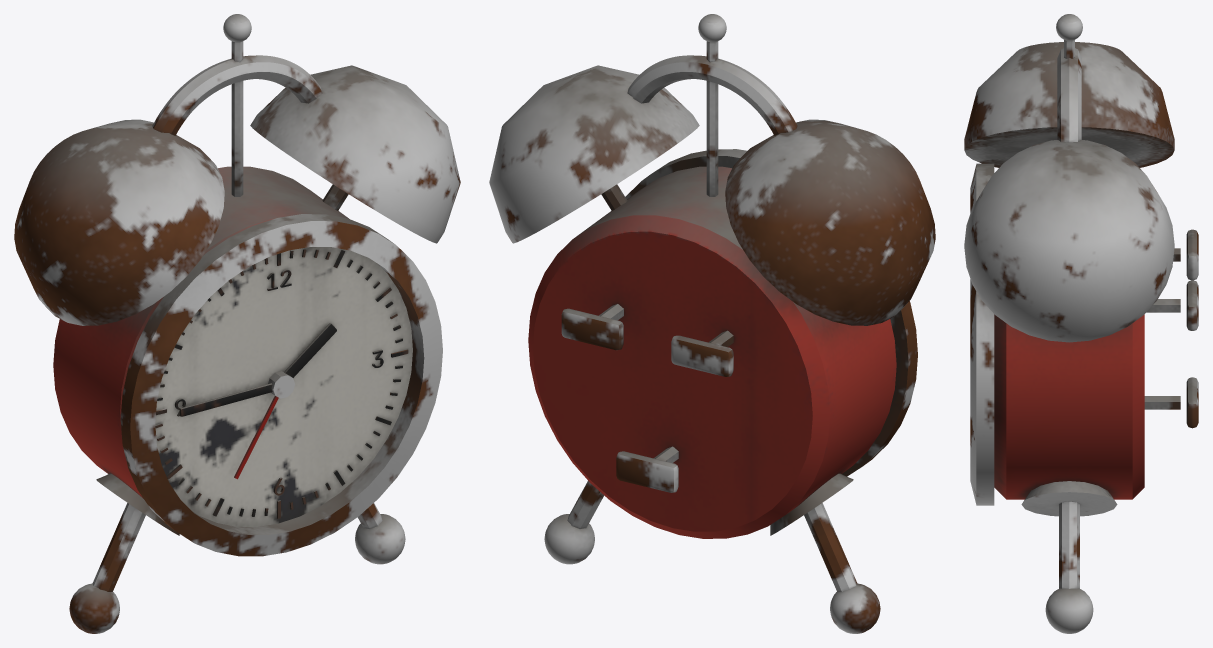
File: SM_AlarmClock_TwinBell.fbx
The picture shows the model from 3 angles, left to right: view 1: azimuth 30°, elevation 25°; view 2: azimuth 150°, elevation 25°; view 3: azimuth 270°, elevation 25°; orthographic projection. The views are drawn at different scales.
Parts seen in each view (by area): view 1: SM_AlarmClock_TwinBell; view 2: SM_AlarmClock_TwinBell; view 3: SM_AlarmClock_TwinBell.
Part boxes in pixels (x1,y1,x2,y2): SM_AlarmClock_TwinBell: (14,14,460,633); SM_AlarmClock_TwinBell: (489,14,935,633); SM_AlarmClock_TwinBell: (964,14,1198,633).
Size of the model in its own units: 0.1511 by 0.2025 by 0.078.
Materials: 1 (1 with a texture image).
